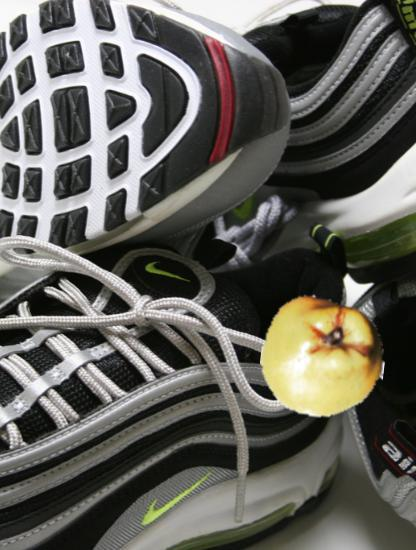Quince: (261, 295, 385, 419)
